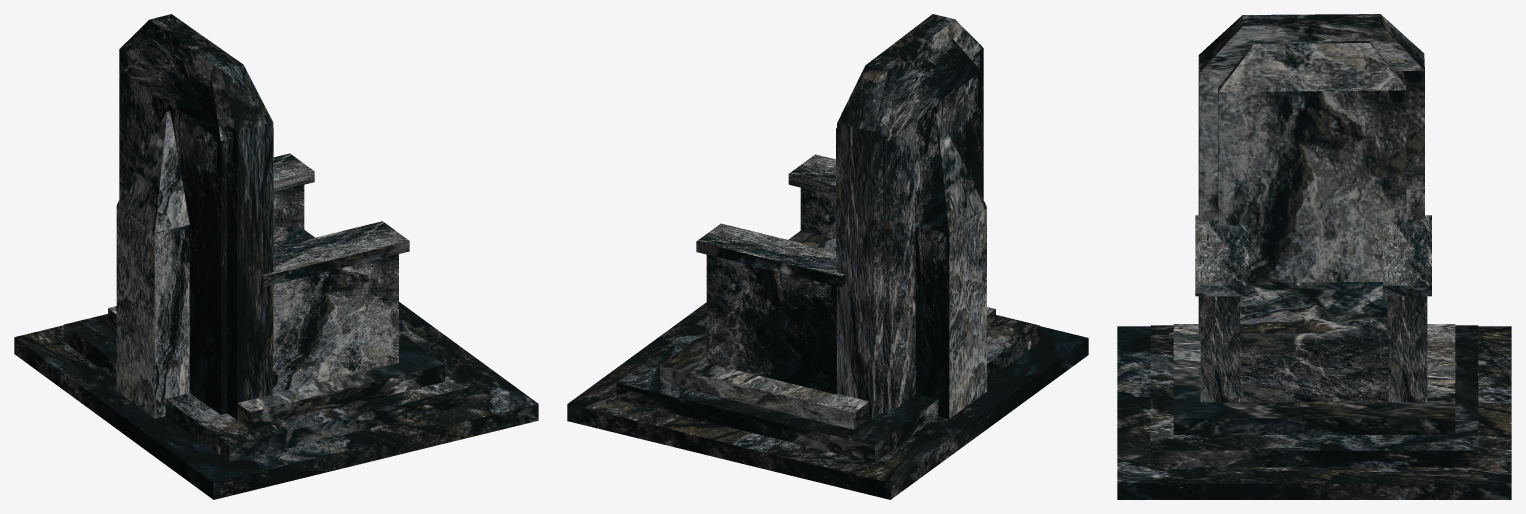
File: trono.glb
The picture shows the model from 3 angles, left to right: view 1: azimuth 30°, elevation 25°; view 2: azimuth 150°, elevation 25°; view 3: azimuth 270°, elevation 25°; orthographic projection.
Parts seen in each view (by area): view 1: Cube.008; view 2: Cube.008; view 3: Cube.008.
Boxes of the visible parts, <box> form: Cube.008: <box>14,14,538,499</box>; Cube.008: <box>567,14,1088,499</box>; Cube.008: <box>1117,14,1511,499</box>.
Size of the model in its own units: 10 by 10.77 by 10.62.
Materials: 1 (1 with a texture image).
